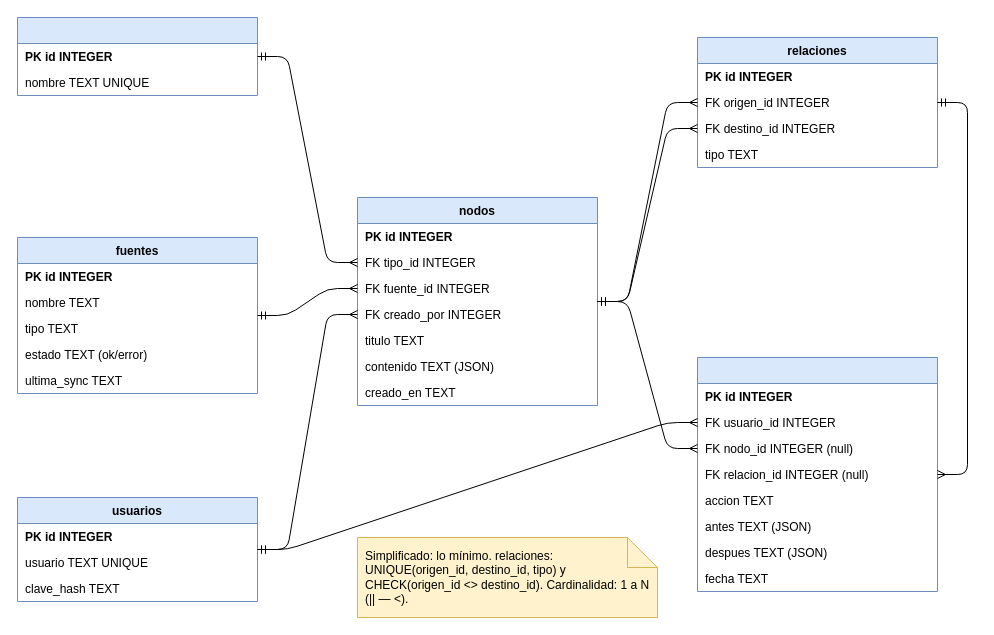
Some shapes in this 994 by 635 pixel diagram are drawn without their labels. Each missing label, with the box of its shape:
historial: (696, 356, 938, 592)
tipos_nodo: (16, 16, 258, 96)
